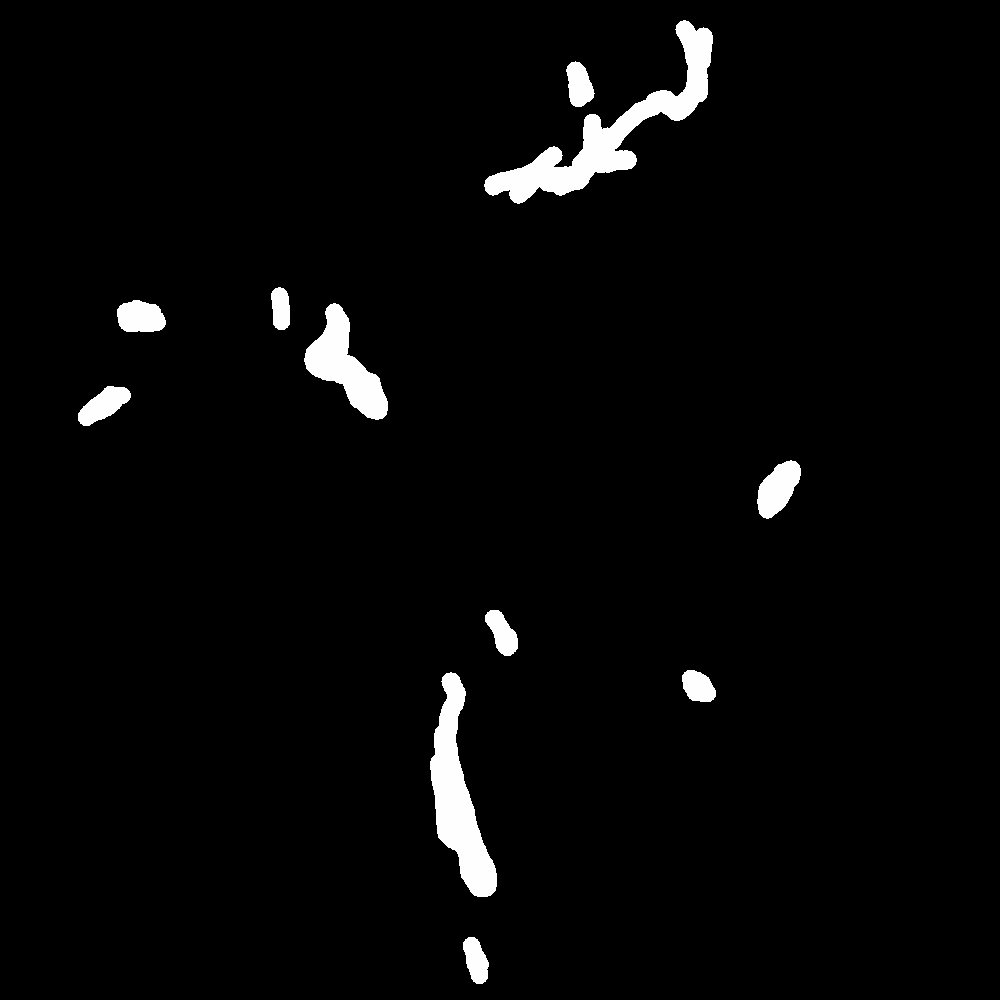illegal: (498, 21, 714, 194), (426, 660, 503, 901), (739, 419, 828, 524), (310, 314, 398, 420)
